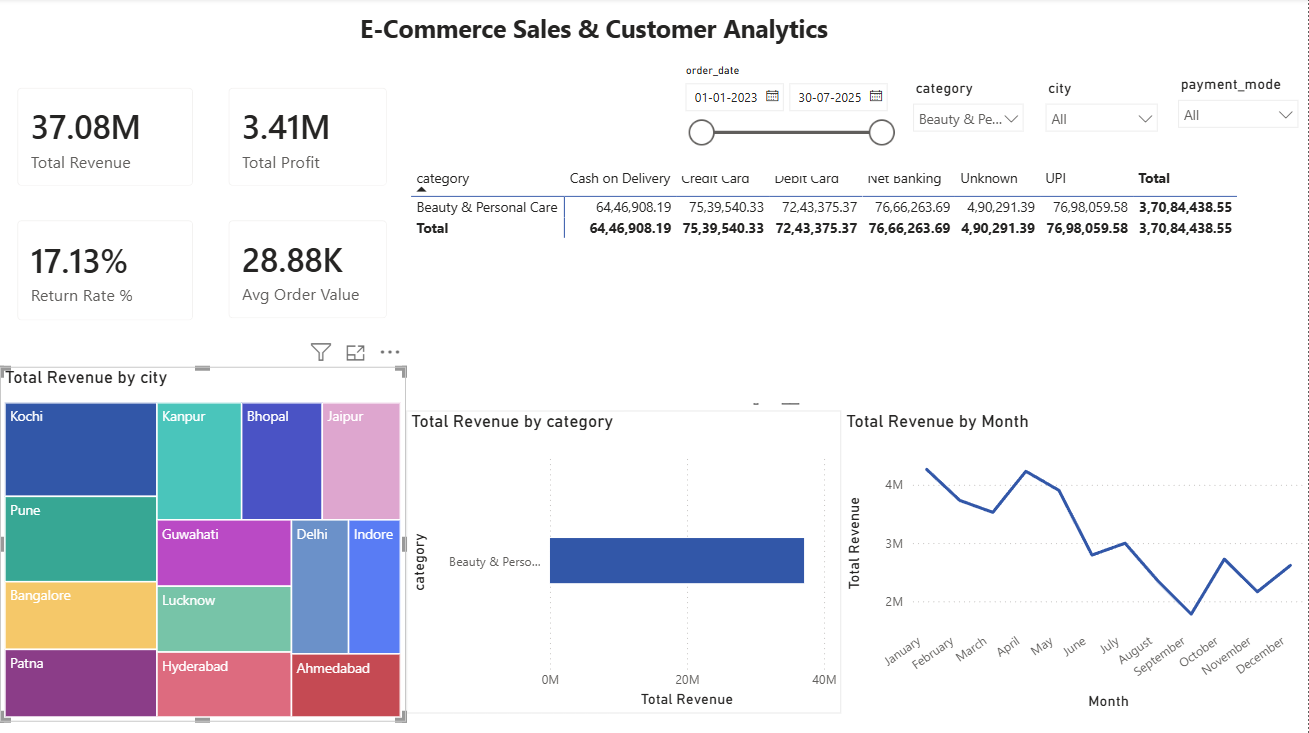

The page's visual inventory and layout, read from the dashboard file:
{"tool":"powerbi","page":{"name":"Page 1","canvas":[1280,720],"ordinal":0},"visuals":[{"type":"cardVisual","fields":{"Data":["analytics_project orders.Total Revenue"]},"box":[0,71,206.9,131],"z":0},{"type":"cardVisual","fields":{"Data":["analytics_project orders.Total Profit"]},"box":[207.3,70.8,189.6,130.2],"z":1},{"type":"cardVisual","fields":{"Data":["analytics_project orders.Return Rate %"]},"box":[0,200.8,206.9,132.2],"z":2},{"type":"cardVisual","fields":{"Data":["analytics_project orders.Average Order Value"]},"box":[207.3,200.9,189.6,130.2],"z":3},{"type":"textbox","box":[347.3,8.6,475.2,51.8],"z":4},{"type":"lineChart","fields":{"Category":["analytics_project orders.order_date.Variation.Date Hierarchy.Month"],"Y":["analytics_project orders.Total Revenue"]},"box":[822.7,403,457.6,297],"z":5},{"type":"clusteredBarChart","fields":{"Category":["analytics_project products.category"],"Y":["analytics_project orders.Total Revenue"]},"box":[396.8,403.2,425.9,295.7],"z":6},{"type":"treemap","fields":{"Group":["analytics_project customers.city"],"Values":["analytics_project orders.Total Revenue"]},"box":[0,360.2,396.8,347.6],"z":7},{"type":"pivotTable","fields":{"Columns":["analytics_project orders.payment_mode"],"Rows":["analytics_project products.category"],"Values":["analytics_project orders.Total Revenue"]},"box":[396.8,160.5,883.4,236.3],"z":8},{"type":"slicer","fields":{"Values":["analytics_project orders.order_date"]},"box":[657.6,59.1,225.8,115.2],"z":9},{"type":"slicer","fields":{"Values":["analytics_project products.category"]},"box":[883.3,74.2,128.8,89.4],"z":10},{"type":"slicer","fields":{"Values":["analytics_project orders.city"]},"box":[1012.1,74.2,130.3,89.4],"z":11},{"type":"slicer","fields":{"Values":["analytics_project orders.payment_mode"]},"box":[1142.4,71.2,137.9,89.4],"z":12}]}

Visuals, with their boxes in screenshot pixels (x1, y1, x2, y2), scaled from the page's 1280x720 canvas onto the 1309x733 screenshot:
cardVisual - analytics_project orders.Total Revenue: detection(0, 72, 212, 206)
cardVisual - analytics_project orders.Total Profit: detection(212, 72, 406, 205)
cardVisual - analytics_project orders.Return Rate %: detection(0, 204, 212, 339)
cardVisual - analytics_project orders.Average Order Value: detection(212, 205, 406, 337)
textbox: detection(355, 9, 841, 61)
lineChart - analytics_project orders.order_date.Variation.Date Hierarchy.Month x analytics_project orders.Total Revenue: detection(841, 410, 1308, 713)
clusteredBarChart - analytics_project products.category x analytics_project orders.Total Revenue: detection(406, 410, 841, 712)
treemap - analytics_project customers.city x analytics_project orders.Total Revenue: detection(0, 367, 406, 721)
pivotTable - analytics_project orders.payment_mode x analytics_project products.category: detection(406, 163, 1308, 404)
slicer - analytics_project orders.order_date: detection(672, 60, 903, 177)
slicer - analytics_project products.category: detection(903, 76, 1035, 167)
slicer - analytics_project orders.city: detection(1035, 76, 1168, 167)
slicer - analytics_project orders.payment_mode: detection(1168, 72, 1308, 163)
